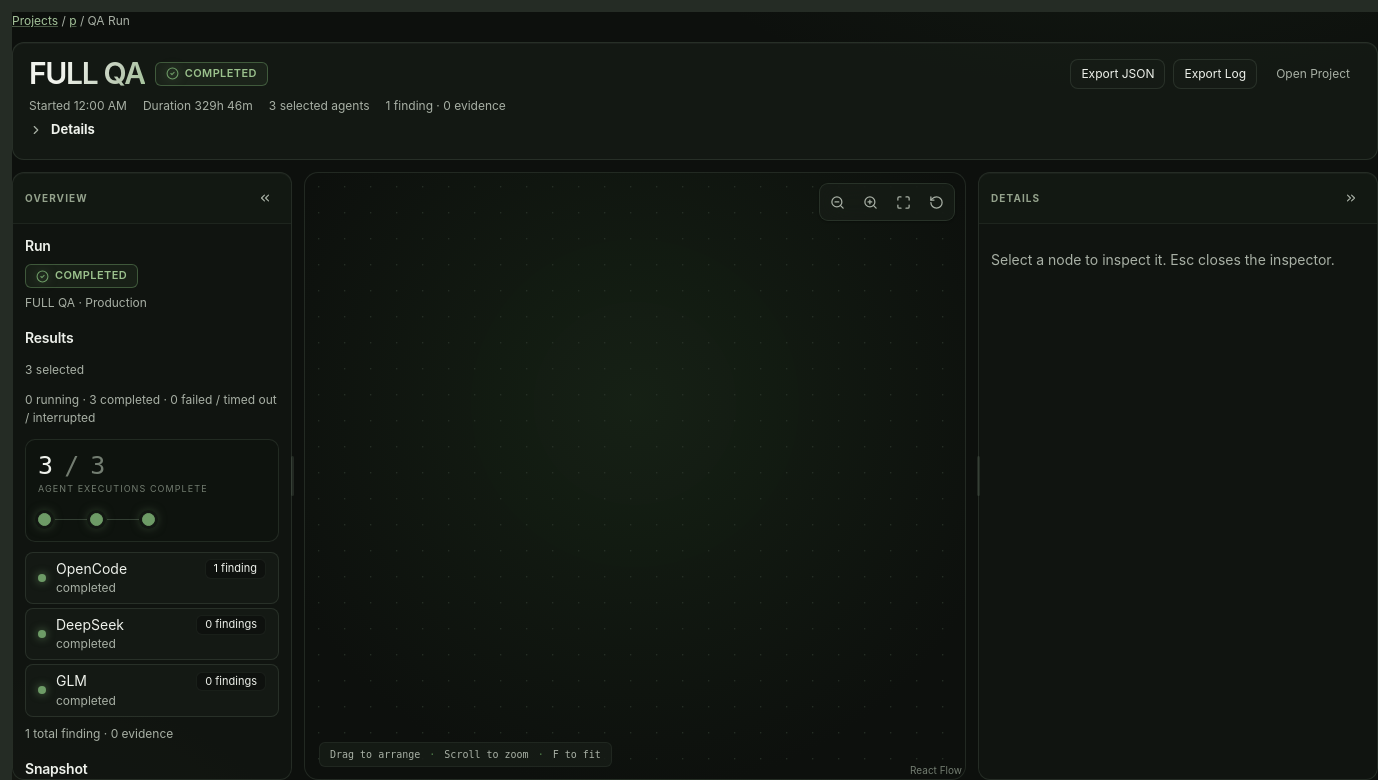
Test case: truthful run workspace › export failure reports only the confirmed outcome
The image size is (1378, 780).
Click the button "Export JSON" at (1118, 74), box [1070,59,1166,89]
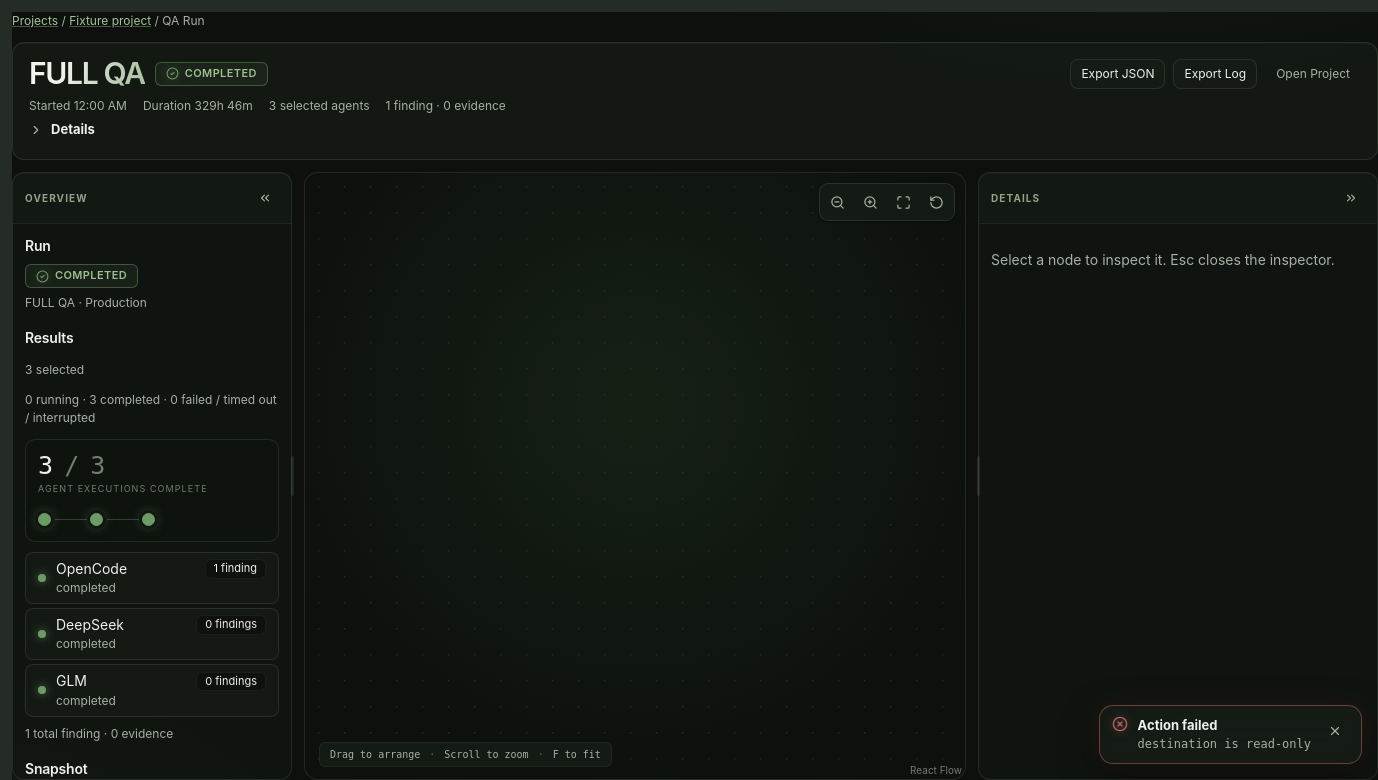
Check: the text "destination is read-only" is shown, box [1138,735,1311,753]
